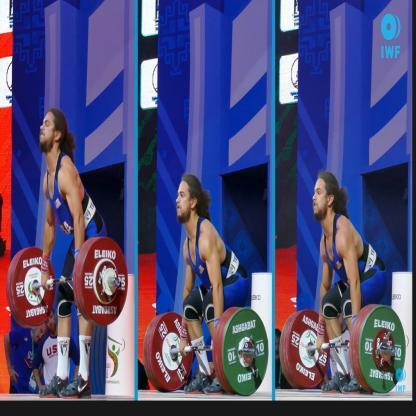barbell: (142, 305, 268, 396), (7, 238, 127, 330), (278, 308, 406, 393)
